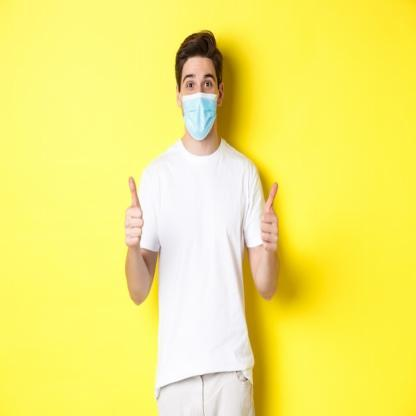thumb_up: (119, 169, 149, 252), (258, 178, 283, 256)
